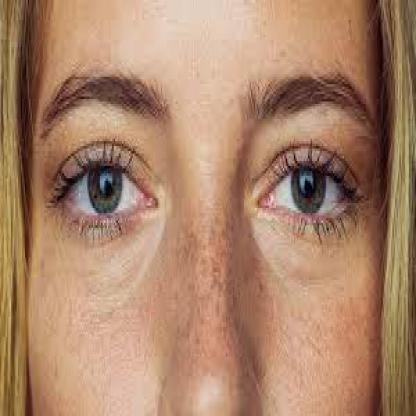darkspot: (184, 211, 235, 344), (334, 302, 354, 344), (359, 324, 375, 352), (252, 272, 265, 298), (50, 359, 62, 384), (36, 255, 47, 272)
